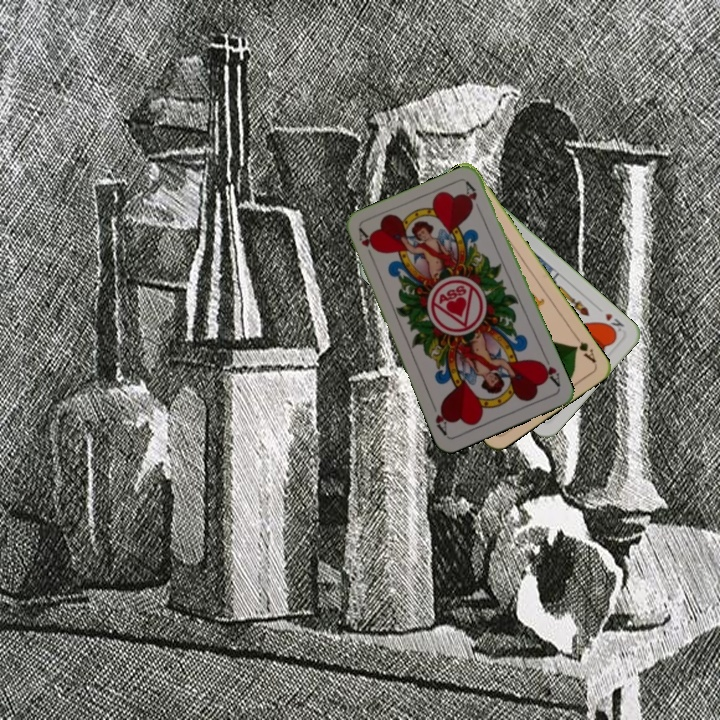GA: (570, 330, 598, 366)
HA: (535, 352, 563, 390), (354, 225, 378, 264)
HK: (599, 309, 627, 336)
